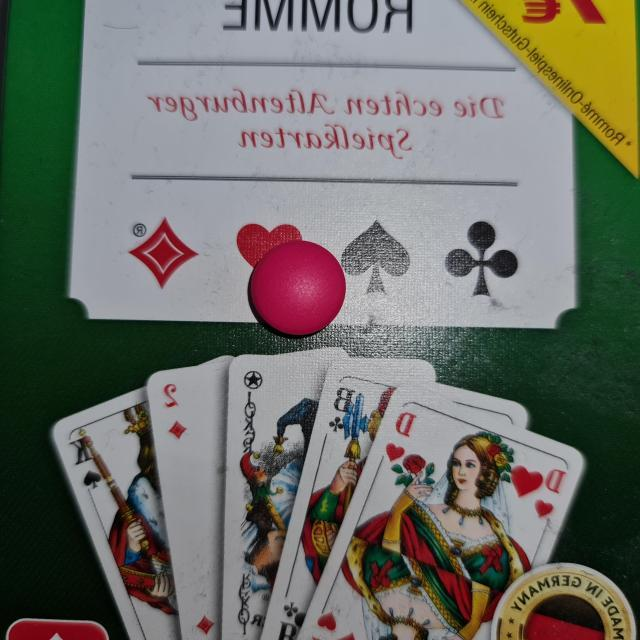pill: (248, 241, 348, 341)
